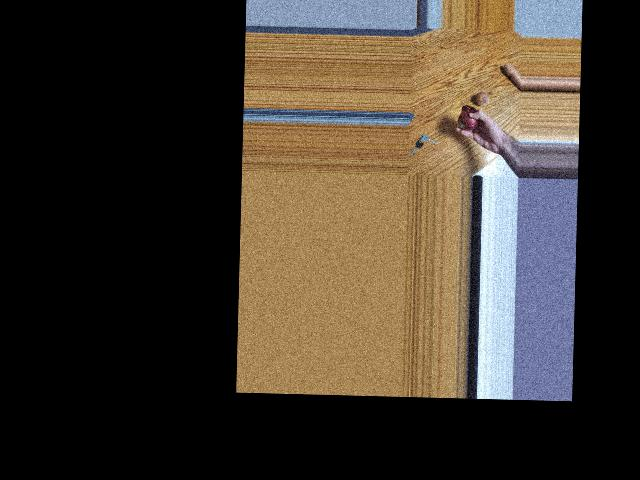onion: (458, 109, 477, 131)
